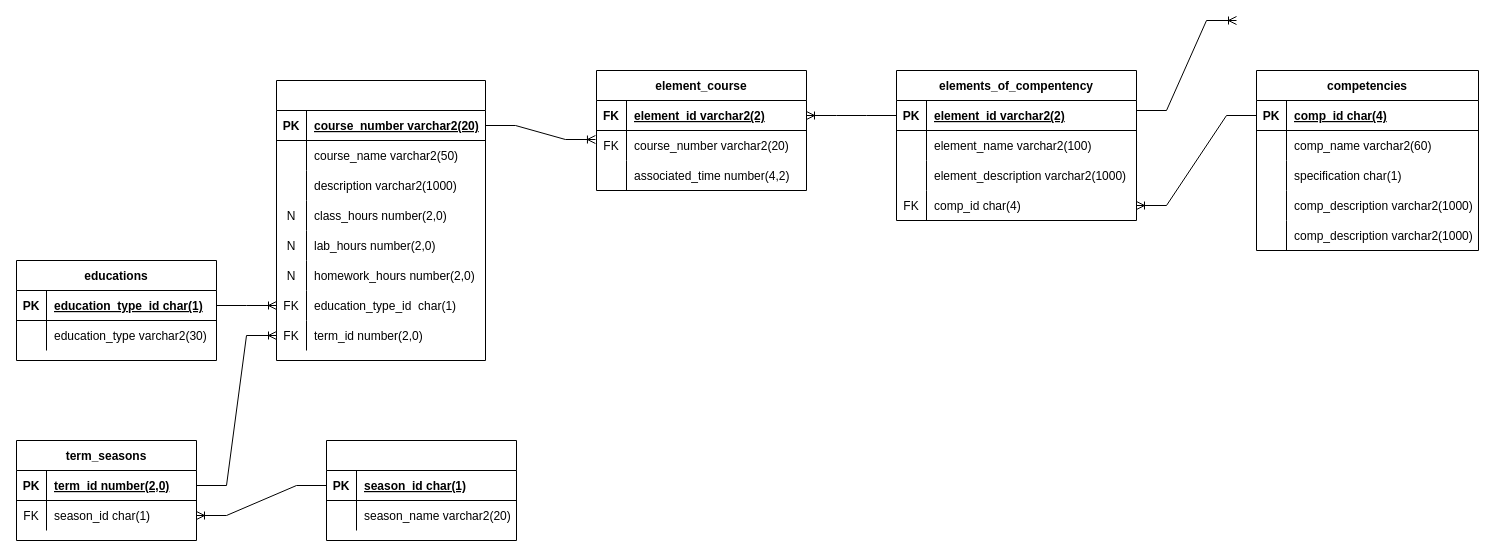
The diagram is 1495 pixels wide and 557 high, and some of its shapes have lost their labels. The box of each missing label's shape, as (x1, y1, x2, y2) in pixels:
courses: (276, 80, 486, 360)
seasons: (326, 440, 516, 540)
